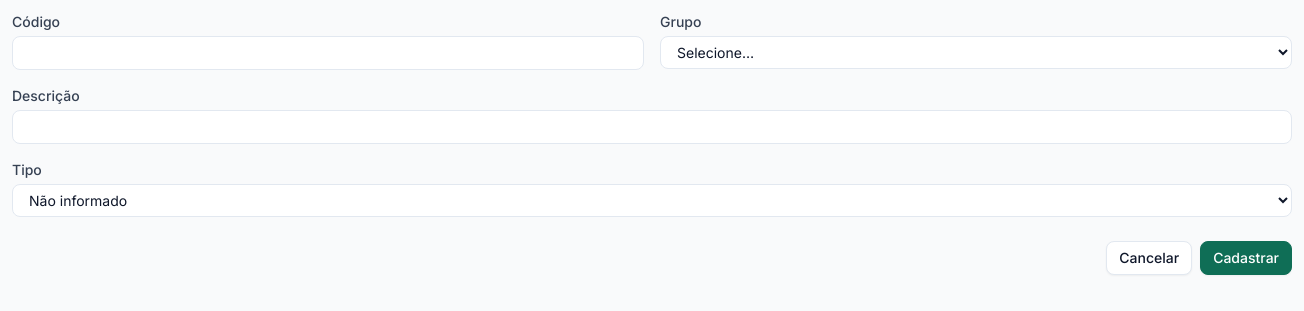
Test: ChartAccountSubgroupForm › exige grupo ao submeter sem seleção
The image size is (1304, 311).
Type "1.1" into the field labelled "Código" at (328, 53), box 12,36 -> 644,70
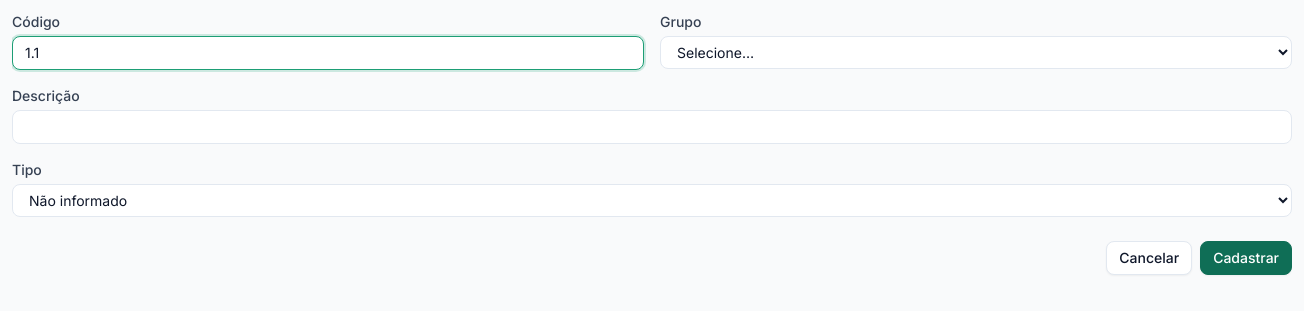
Type "Ativo Circulante" into the field labelled "Descrição" at (652, 127), box 12,110 -> 1292,144
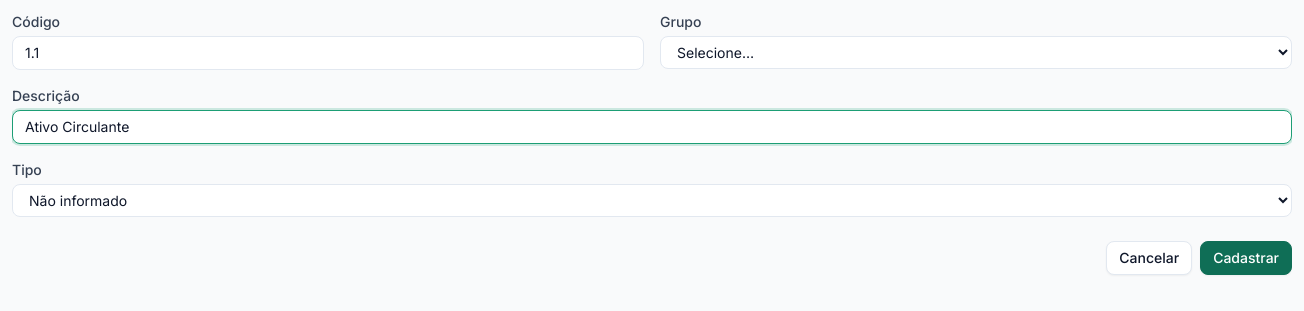
Click the button "Cadastrar" at (1246, 258), box 1200,241 -> 1292,275
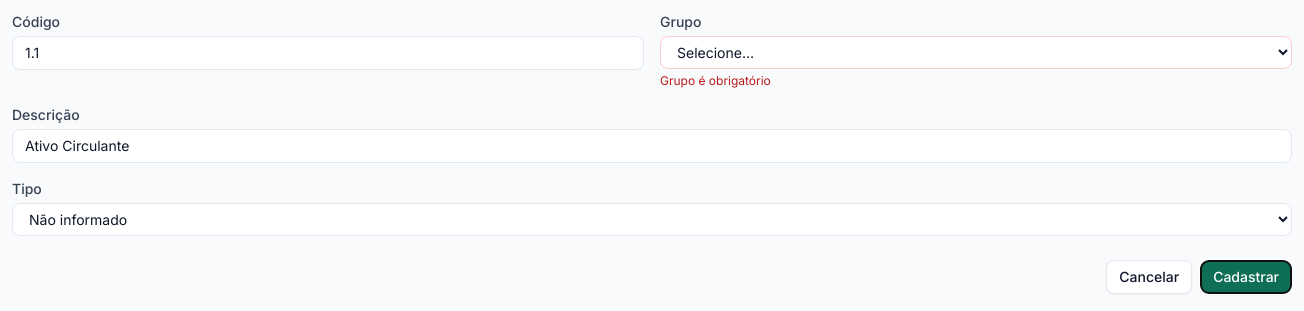
Expected: the text "Grupo é obrigatório" is shown, 660,73 -> 771,88
